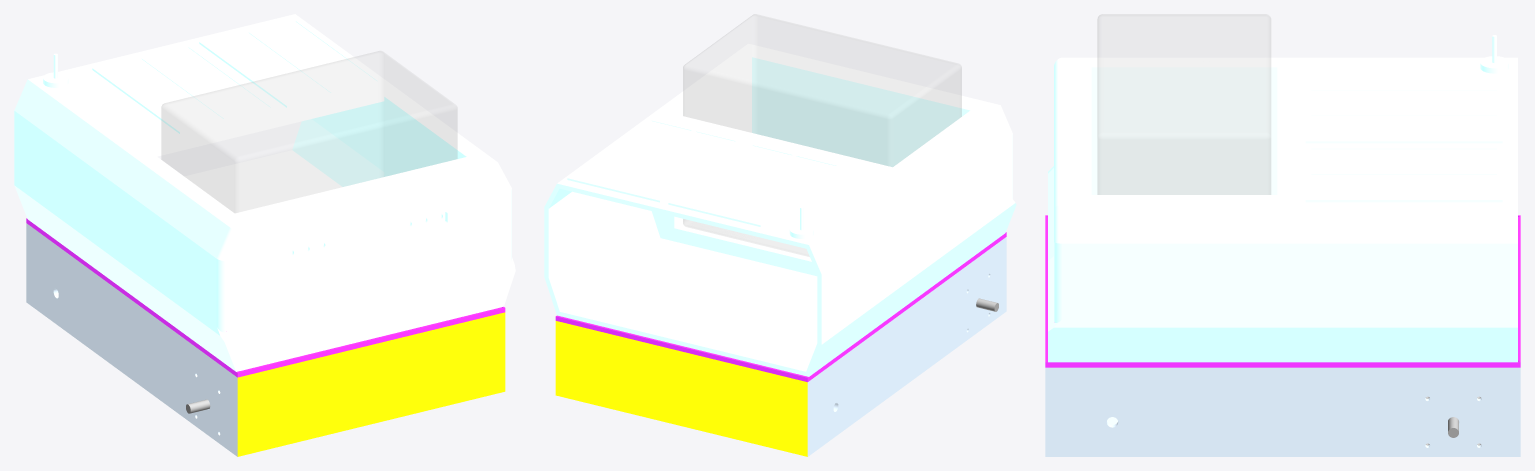
File: Suspension.dae
3 views of the same model, side by side, from view 1: azimuth 30°, elevation 25°; view 2: azimuth 150°, elevation 25°; view 3: azimuth 270°, elevation 25° (orthographic). The views are drawn at different scales.
Visible parts, largest first — view 1: Part 1 (×4); view 2: Part 1 (×4); view 3: Part 1 (×4).
Part boxes in pixels (<box>): Part 1 (×4): <box>14,14,515,456</box>; Part 1 (×4): <box>544,14,1016,456</box>; Part 1 (×4): <box>1045,14,1520,456</box>.
Bounding box in the file's own units: 0.6868 × 0.82 × 0.59.
